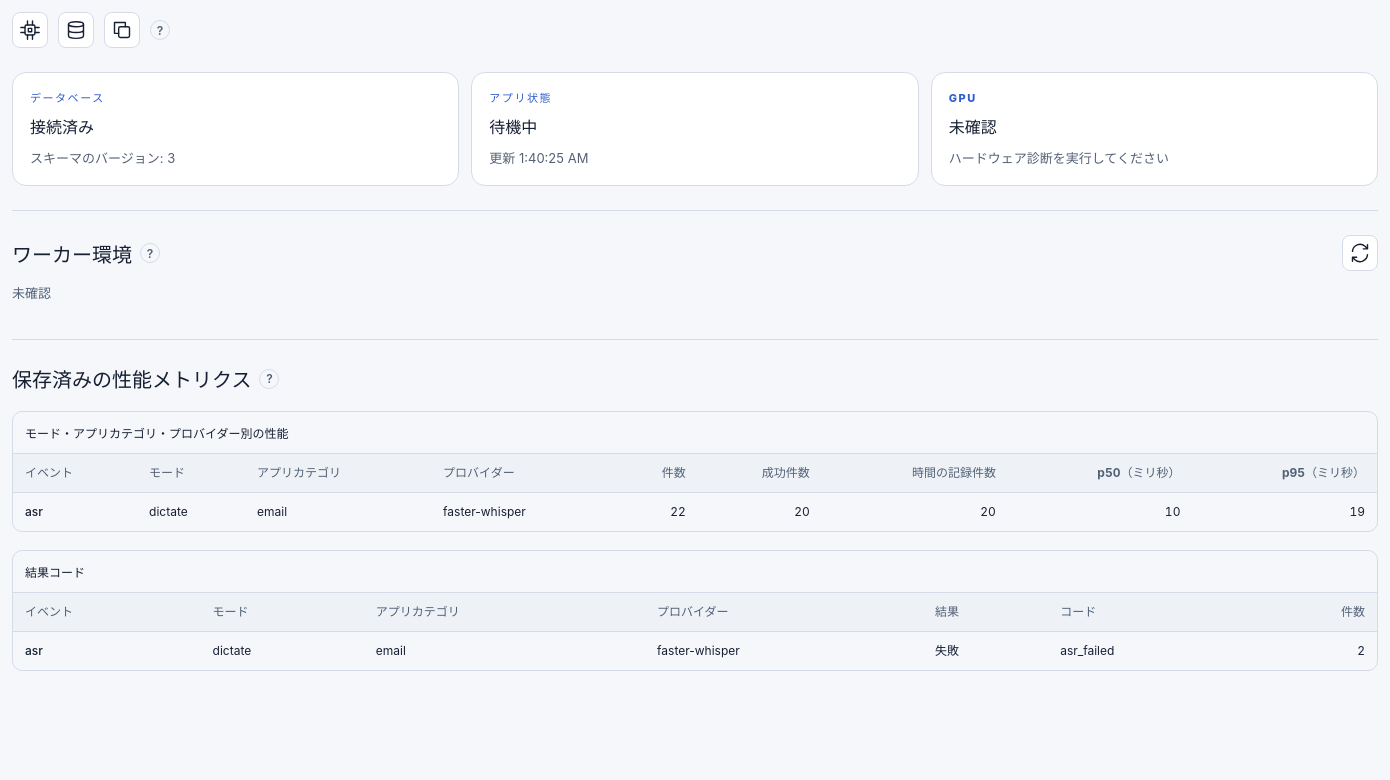
Test case: real diagnostics display aggregates and copy excludes dictated text
The image size is (1390, 780).
Check: the text "19" is shown, box x1=1192 y1=493 x2=1377 y2=531
Check: the text "スキーマのバージョン: 3" is shown, box x1=30 y1=150 x2=175 y2=166
Click the button named "診断結果をコピー". click: coordinates (122, 30)
box: x1=104 y1=12 x2=140 y2=48
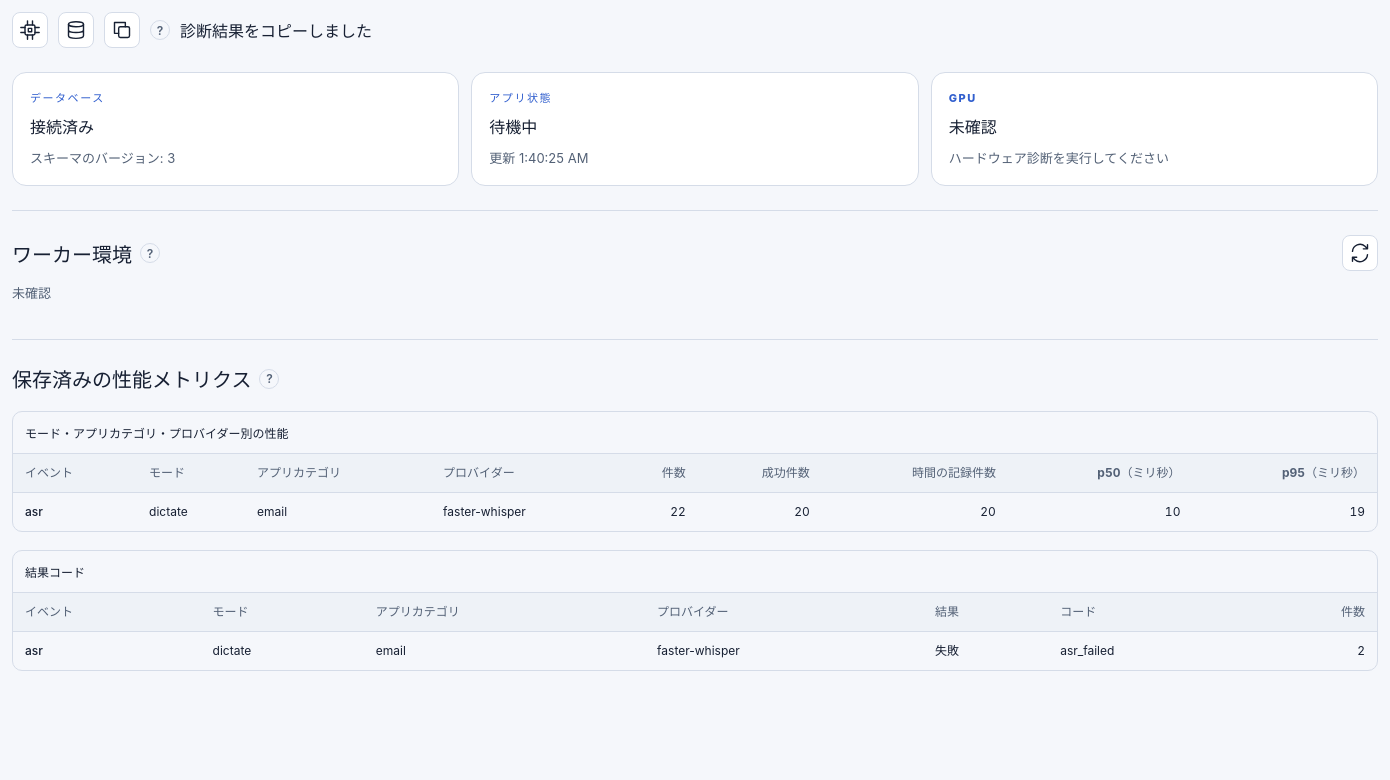
Check: the text "診断結果をコピーしました" is shown, box x1=180 y1=18 x2=372 y2=42
